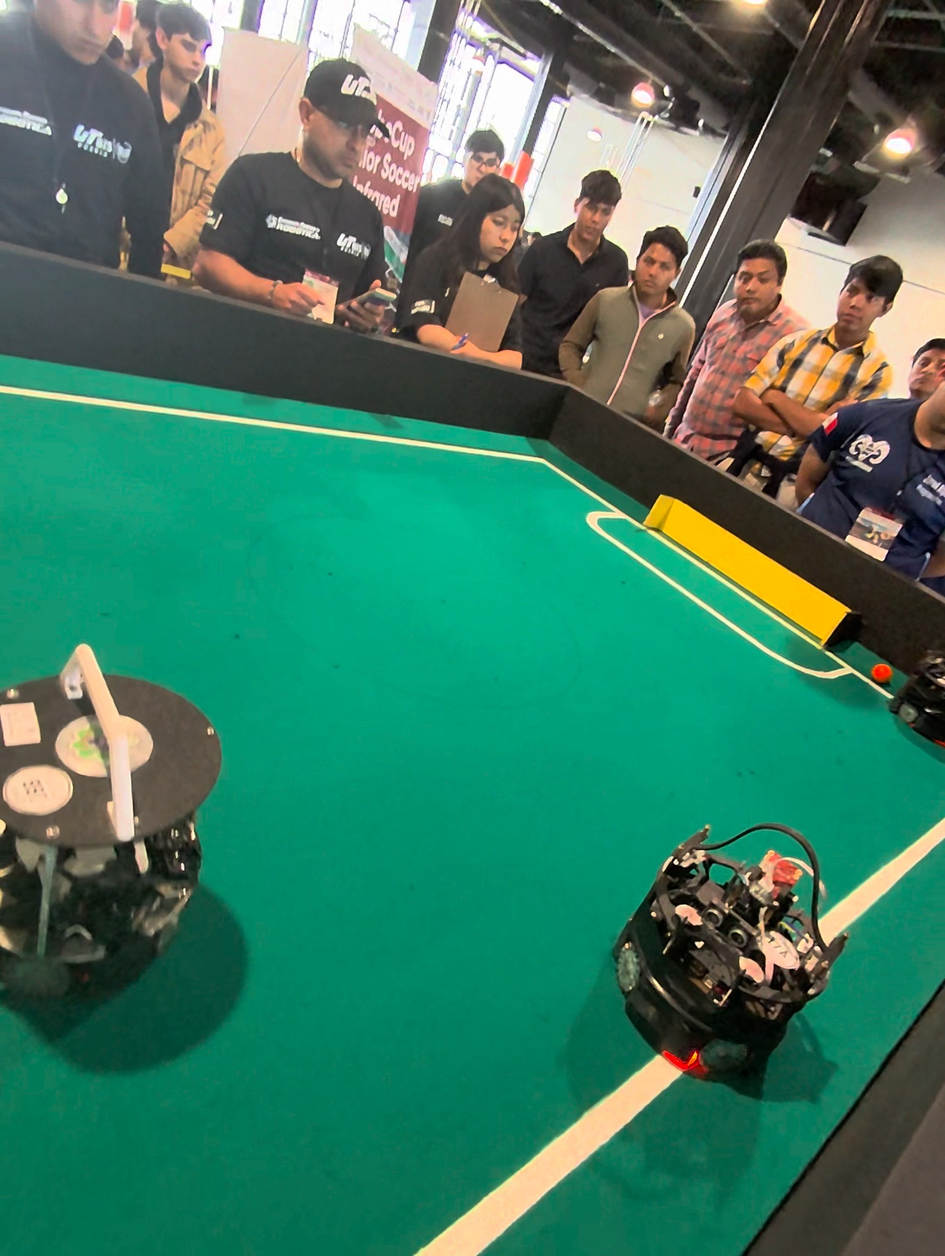Robot: (0, 626, 249, 1054), (603, 806, 852, 1106), (897, 622, 945, 764)
pelota: (872, 664, 893, 686)
